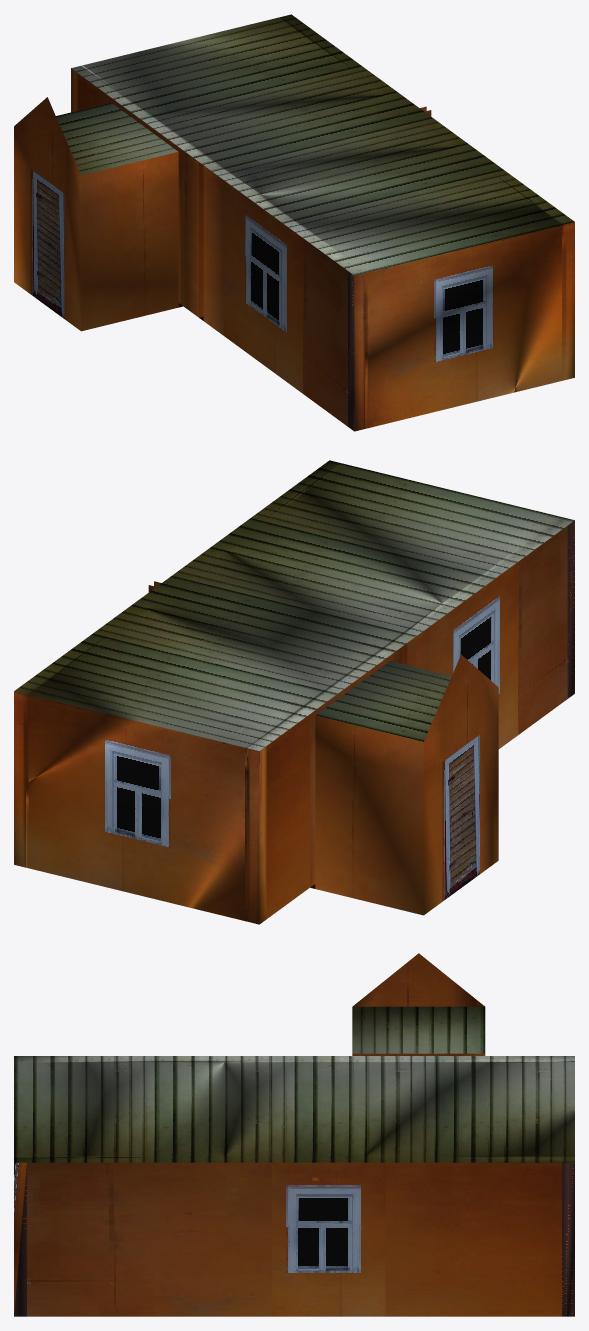
File: mökki2Interior.glb
3 views of the same model, one above another, from view 1: azimuth 30°, elevation 25°; view 2: azimuth 150°, elevation 25°; view 3: azimuth 270°, elevation 25° (orthographic). The views are drawn at different scales.
Visible parts, largest first — view 1: mökki2Interior; view 2: mökki2Interior; view 3: mökki2Interior.
Boxes of the visible parts, bbox=[...] form: mökki2Interior: bbox=[14, 14, 574, 431]; mökki2Interior: bbox=[14, 460, 574, 924]; mökki2Interior: bbox=[14, 953, 574, 1316].
Bounding box in the file's own units: 5.33 × 3.24 × 7.93.
1 material, 1 textured.
